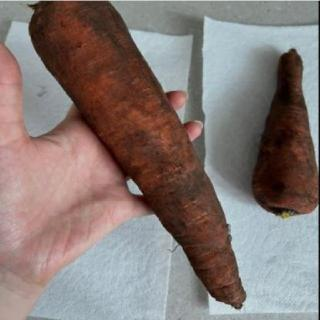carrot: (29, 0, 250, 308), (250, 46, 320, 218)
